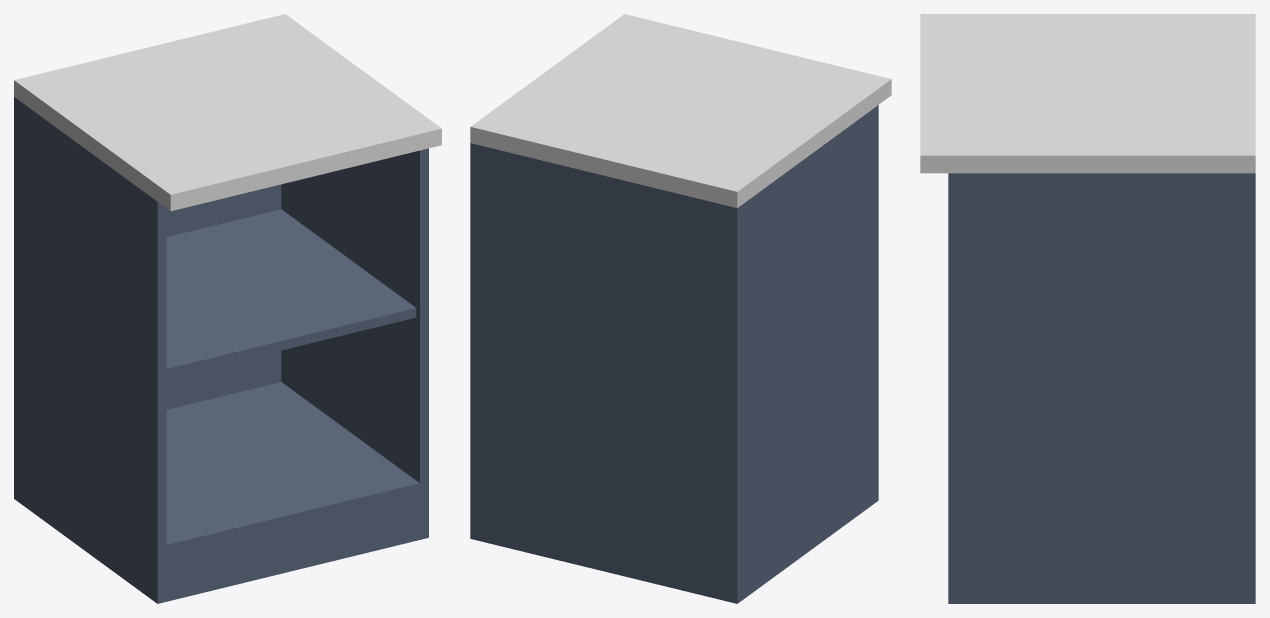
Rendered from Kitchen1_C4_02.fbx.
3 views of the same model, side by side, from view 1: azimuth 30°, elevation 25°; view 2: azimuth 150°, elevation 25°; view 3: azimuth 270°, elevation 25° (orthographic). The views are drawn at different scales.
Visible parts, largest first — view 1: Kitchen1_C4_02; view 2: Kitchen1_C4_02; view 3: Kitchen1_C4_02.
Boxes of the visible parts, x1=… form: Kitchen1_C4_02: x1=14, y1=14, x2=441, y2=603; Kitchen1_C4_02: x1=470, y1=14, x2=891, y2=603; Kitchen1_C4_02: x1=920, y1=14, x2=1255, y2=603.
Bounding box in the file's own units: 60 × 88.5 × 60.
